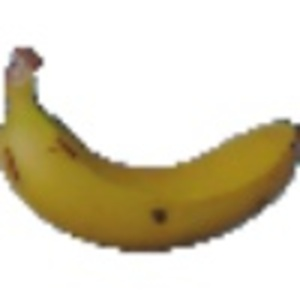banana: (1, 38, 298, 256)
